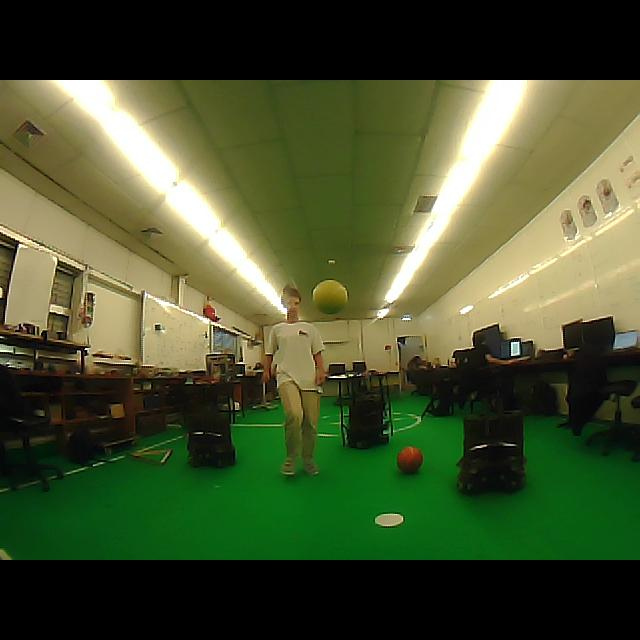ball: (312, 280, 348, 314), (398, 446, 424, 474)
robot: (458, 411, 525, 494), (329, 372, 394, 448), (184, 384, 236, 467)
